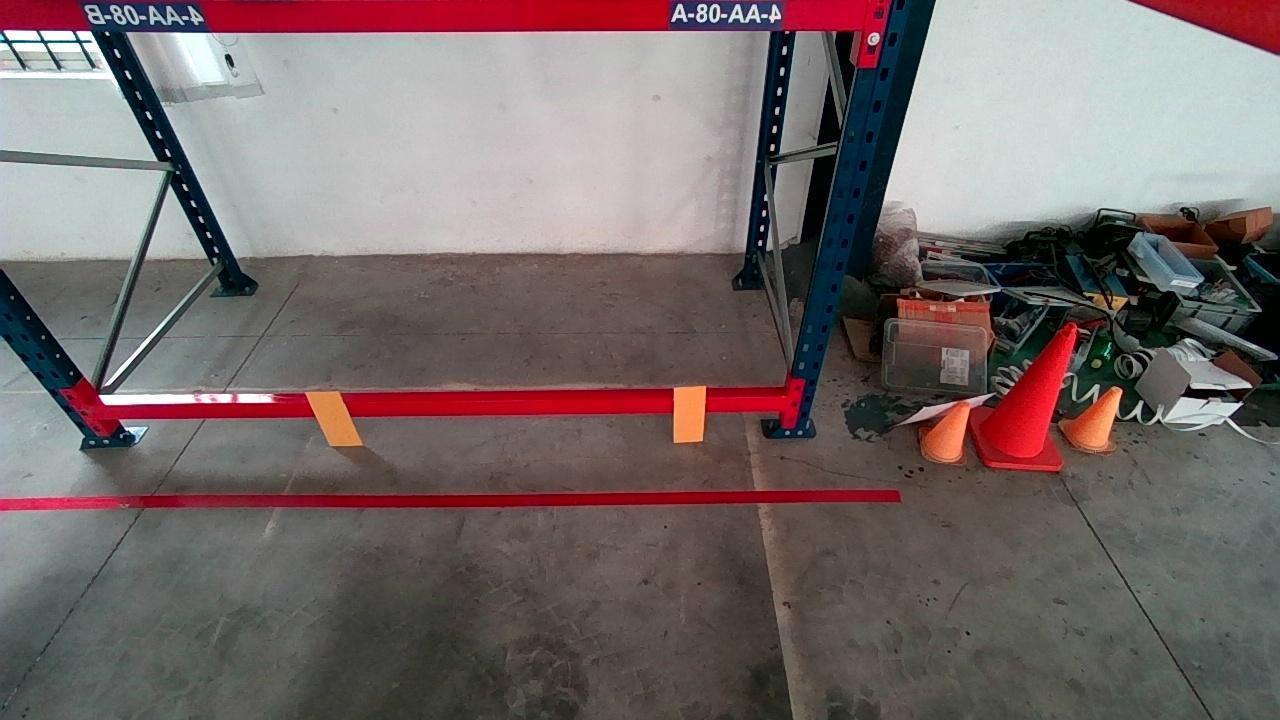h_rack: (2, 0, 866, 28), (97, 389, 786, 424)
orange_strip: (306, 390, 361, 446), (673, 384, 706, 441)
